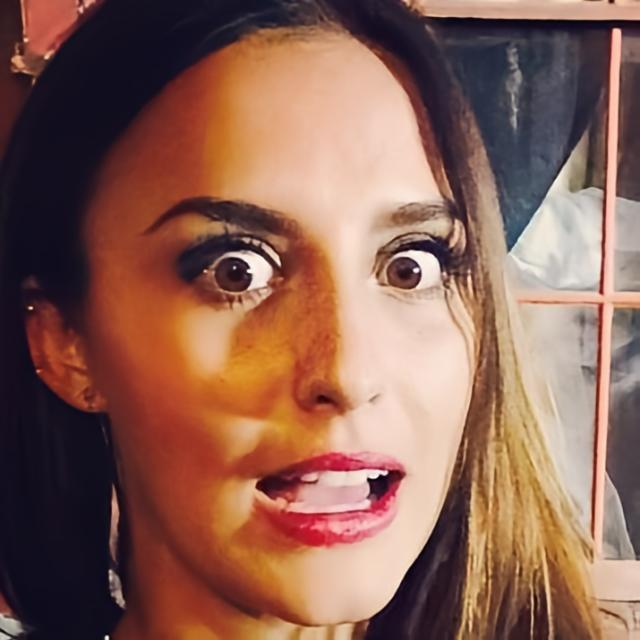fear: (83, 22, 477, 629)
